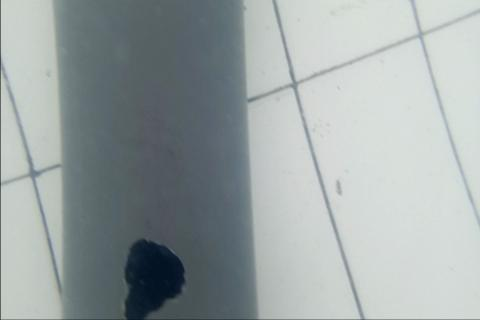kebocoran: (121, 234, 187, 320)
